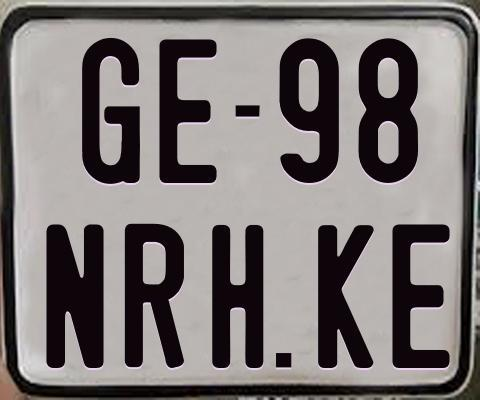8: (357, 35, 423, 186)
9: (276, 38, 340, 185)
E: (157, 39, 220, 189), (390, 221, 448, 369)
G: (82, 36, 141, 183)
H: (212, 225, 268, 371)
K: (315, 224, 372, 369)
N: (44, 224, 104, 369)
R: (124, 222, 186, 366)
